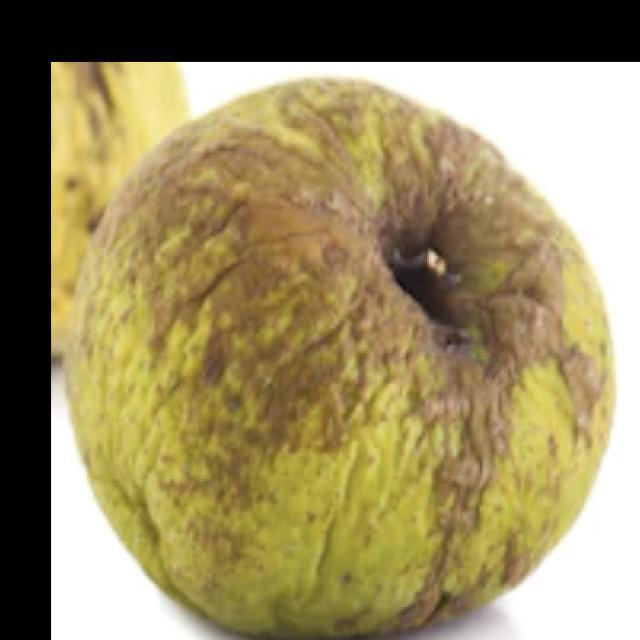Rotten: (92, 85, 573, 628)
